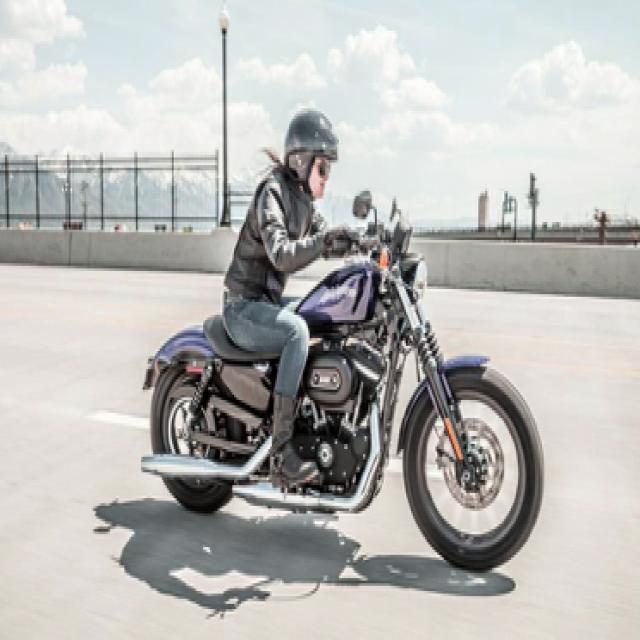Helmet: (282, 98, 342, 209)
